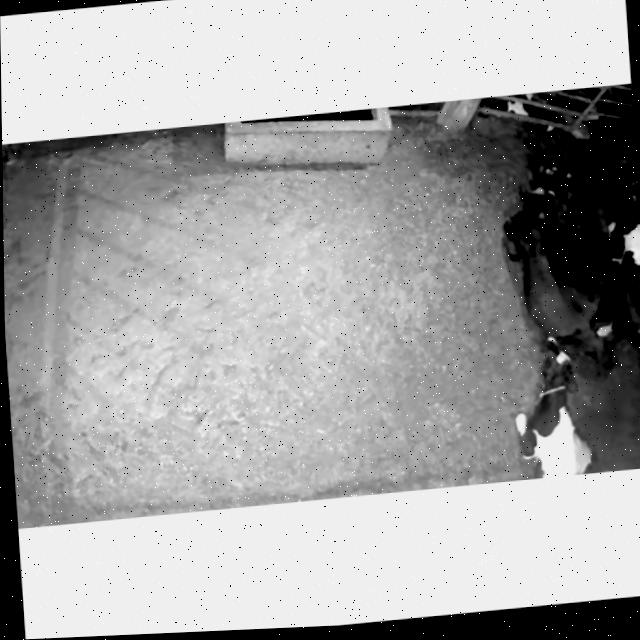lay: (492, 140, 612, 362), (498, 324, 616, 481), (601, 133, 640, 363)
